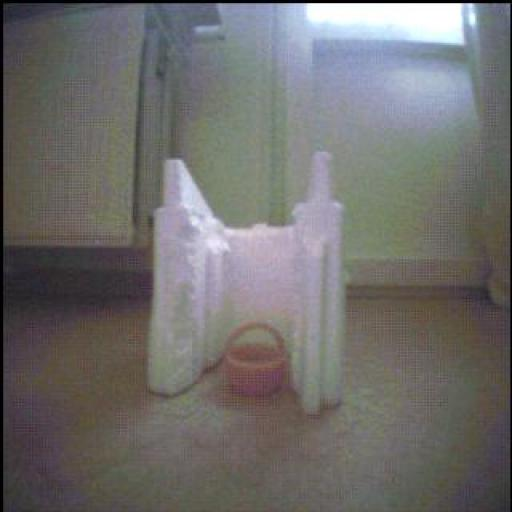Basket: (225, 323, 287, 396)
